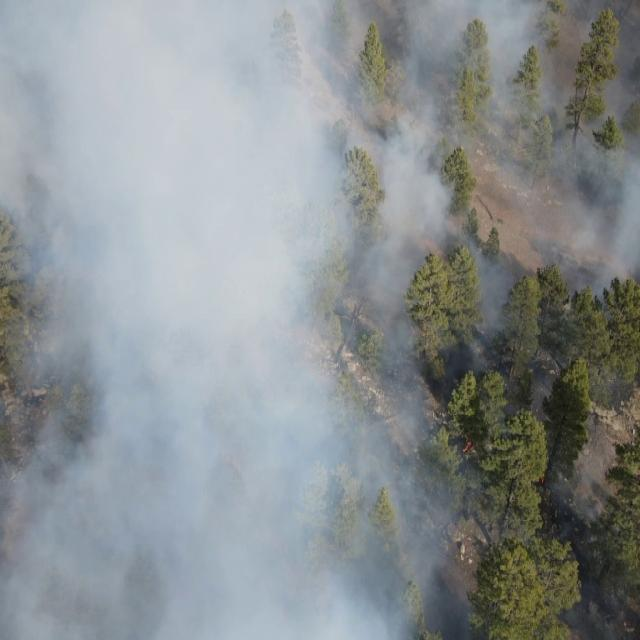fire: (463, 438, 476, 458)
smoke: (0, 0, 640, 262), (3, 402, 502, 640), (13, 268, 636, 407), (511, 488, 603, 558)
